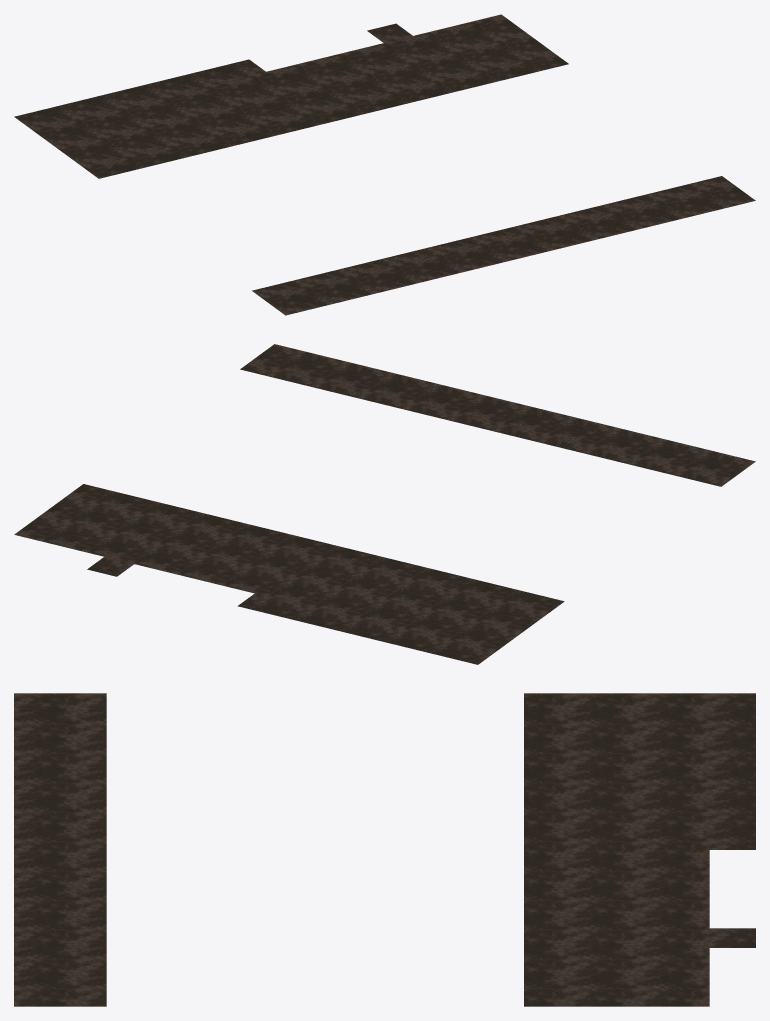
Rendered from floor_1_-5.glb.
3 views of the same model, one above another, from view 1: azimuth 30°, elevation 25°; view 2: azimuth 150°, elevation 25°; view 3: azimuth 270°, elevation 25° (orthographic). The views are drawn at different scales.
Parts seen in each view (by area): view 1: floor_1_-5; view 2: floor_1_-5; view 3: floor_1_-5.
Part boxes in pixels (x1,y1,x2,y2): floor_1_-5: (14, 14, 755, 315); floor_1_-5: (14, 344, 755, 664); floor_1_-5: (14, 693, 755, 1006).
Size of the model in its own units: 64 by 0 by 64.
Materials: 1 (1 with a texture image).
